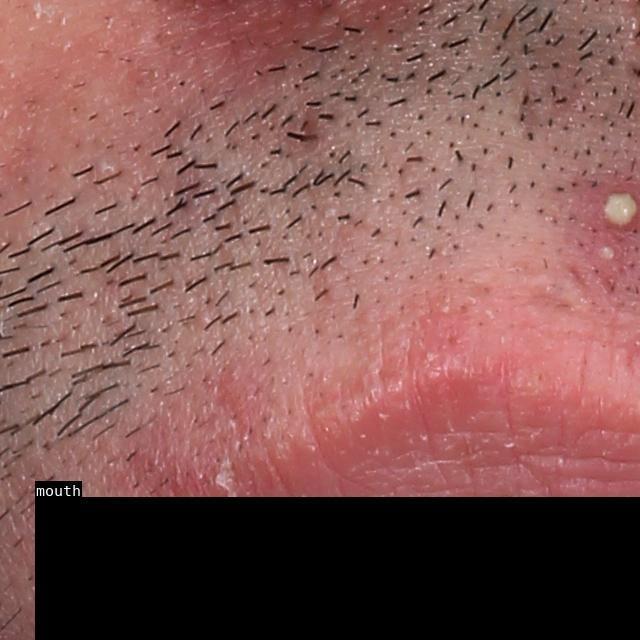pustule: (590, 238, 621, 265)
